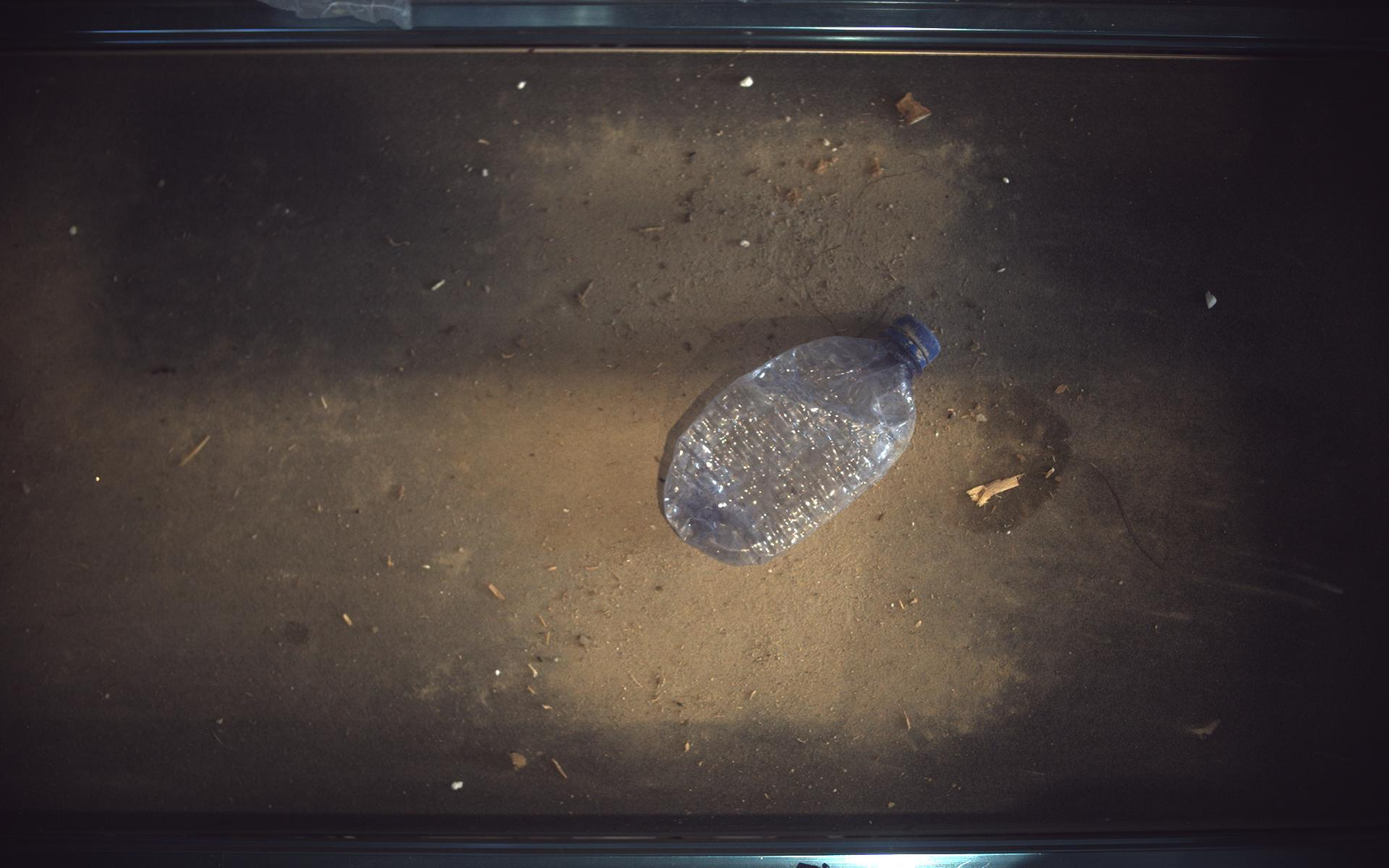general_w: (664, 315, 943, 566)
